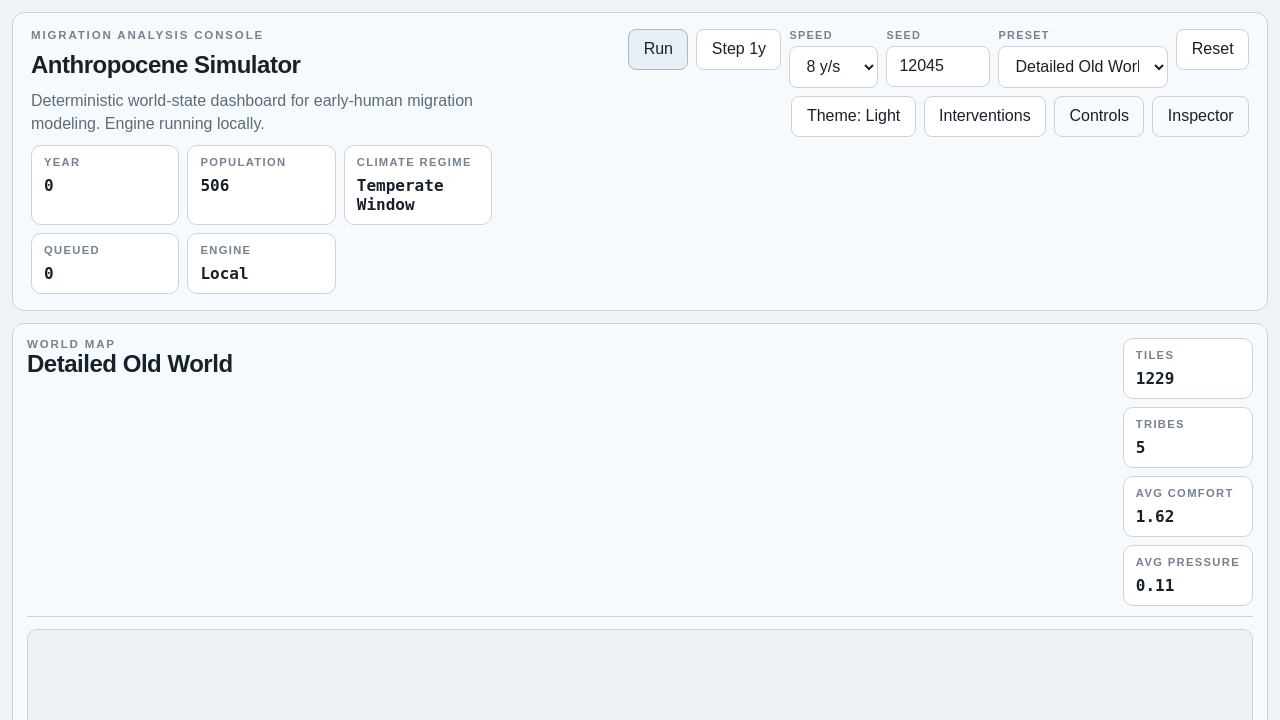
app shell › applies preset changes immediately
This screenshot has width=1280, height=720.
Select "Old World Corridor" in the dropdown labelled "Preset": (1083, 67) 998,46 -> 1168,88
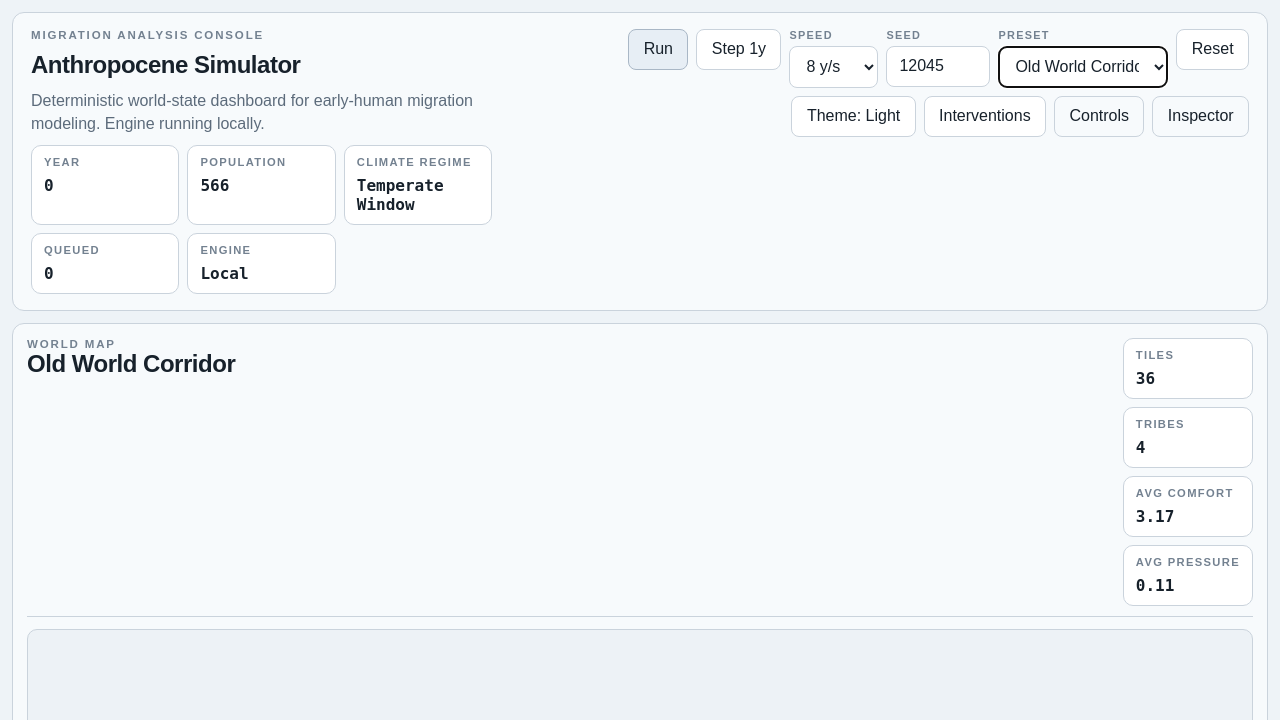
Expected: the heading "Old World Corridor" is shown, 27,350 -> 235,378
